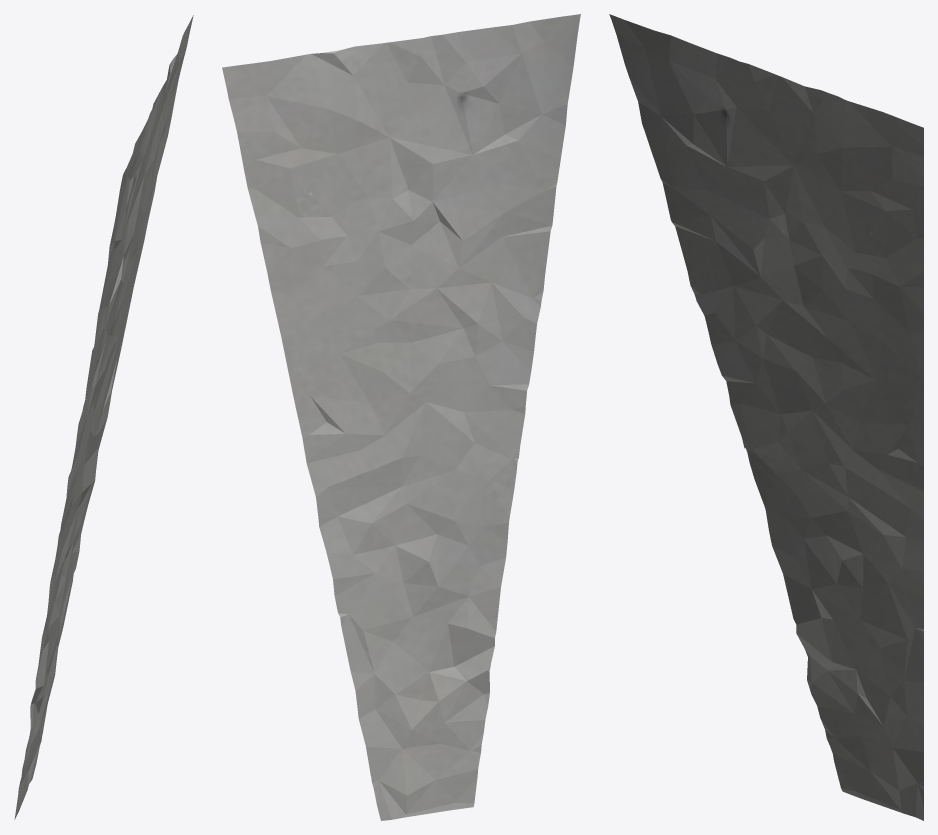
3 renders of one model, left to right at view 1: azimuth 30°, elevation 25°; view 2: azimuth 150°, elevation 25°; view 3: azimuth 270°, elevation 25°, orthographic. The views are drawn at different scales.
Bounding box in the file's own units: 0.2628 × 0.8374 × 0.3072.
Materials: 1 (1 with a texture image).
